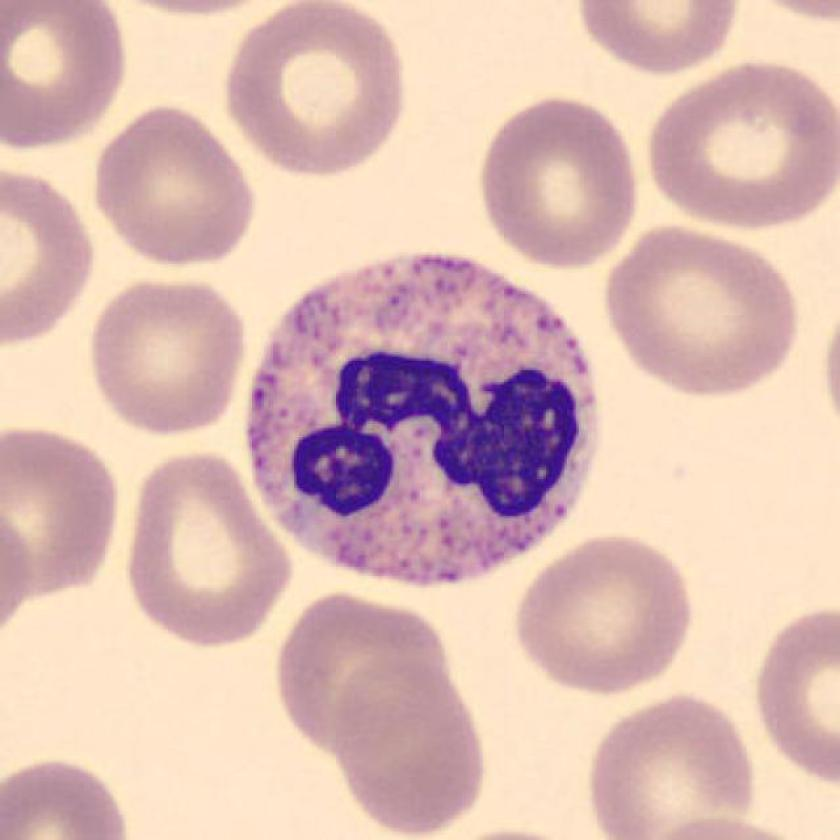neutrophil: (248, 256, 603, 587)
